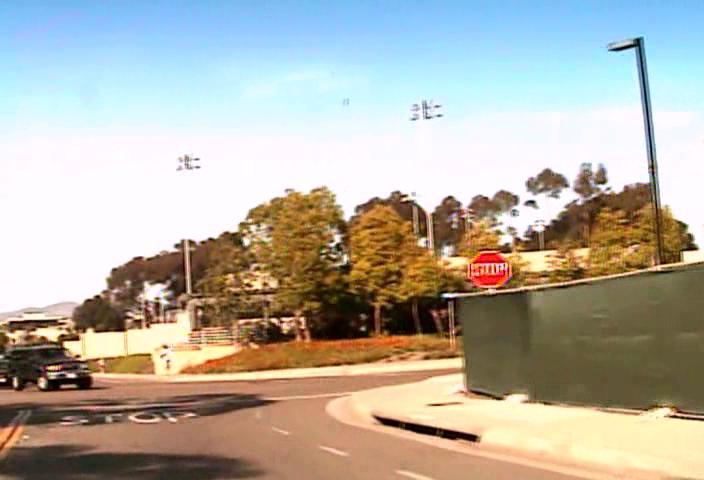stop: (468, 251, 511, 288)
